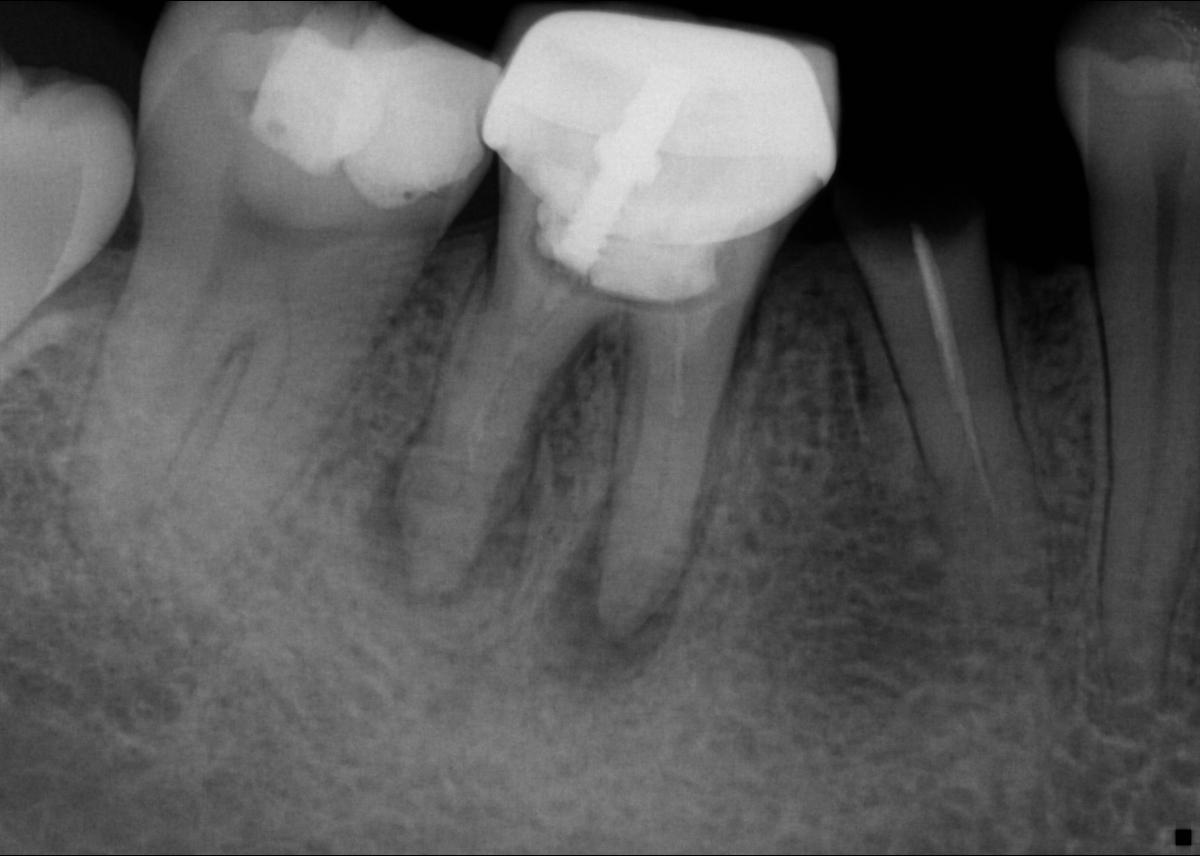Dental Caries: (358, 317, 637, 613), (539, 485, 687, 687)
